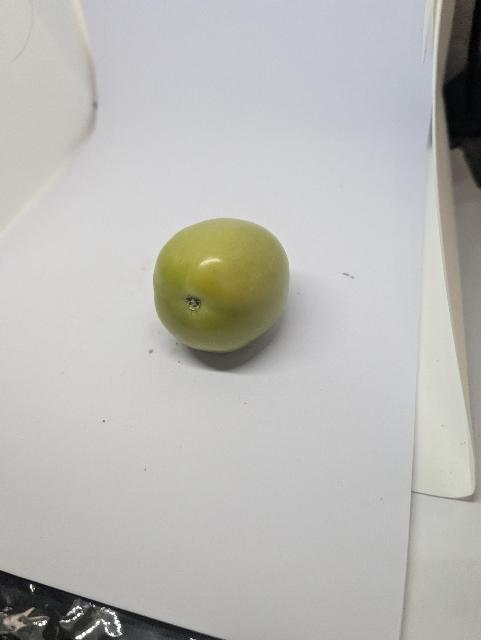green: (149, 214, 295, 355)
